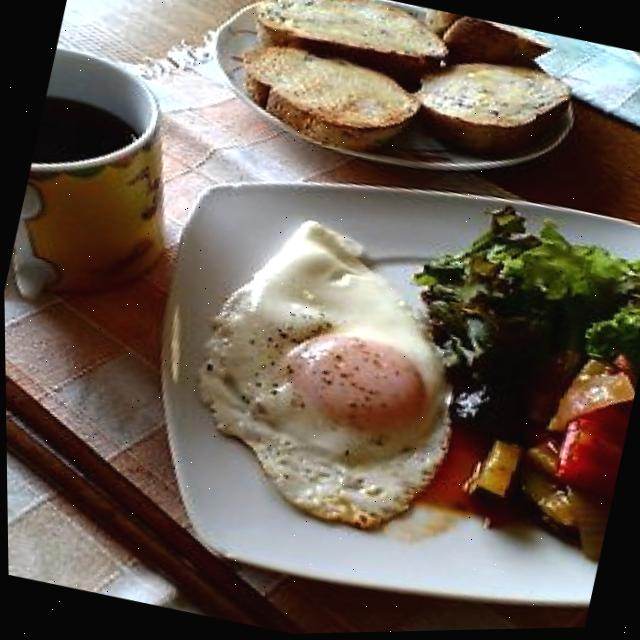鸡蛋料理: (199, 198, 458, 533)
